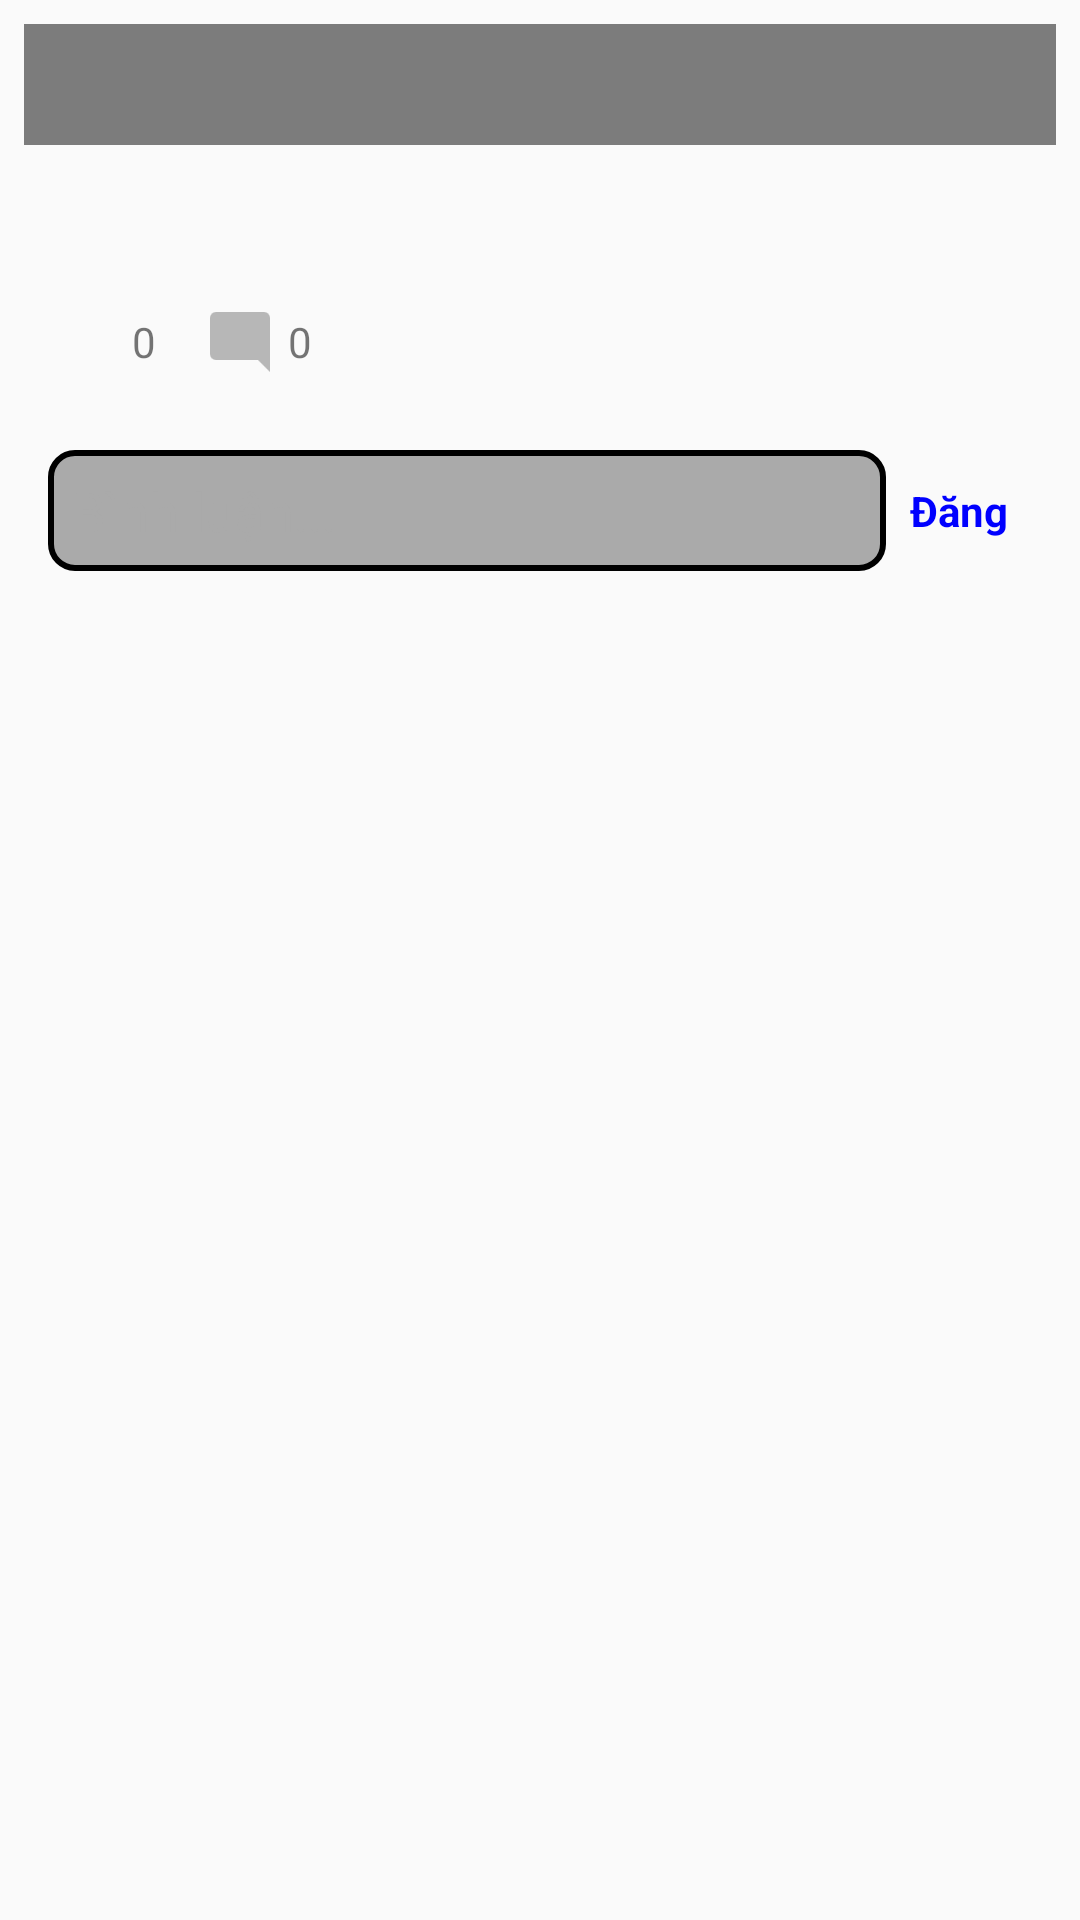

Screen size 1080x1920. Icon name, then its box in pixels as box=[x1, y1, x2, y2]:
comment: box=[210, 312, 270, 372]
